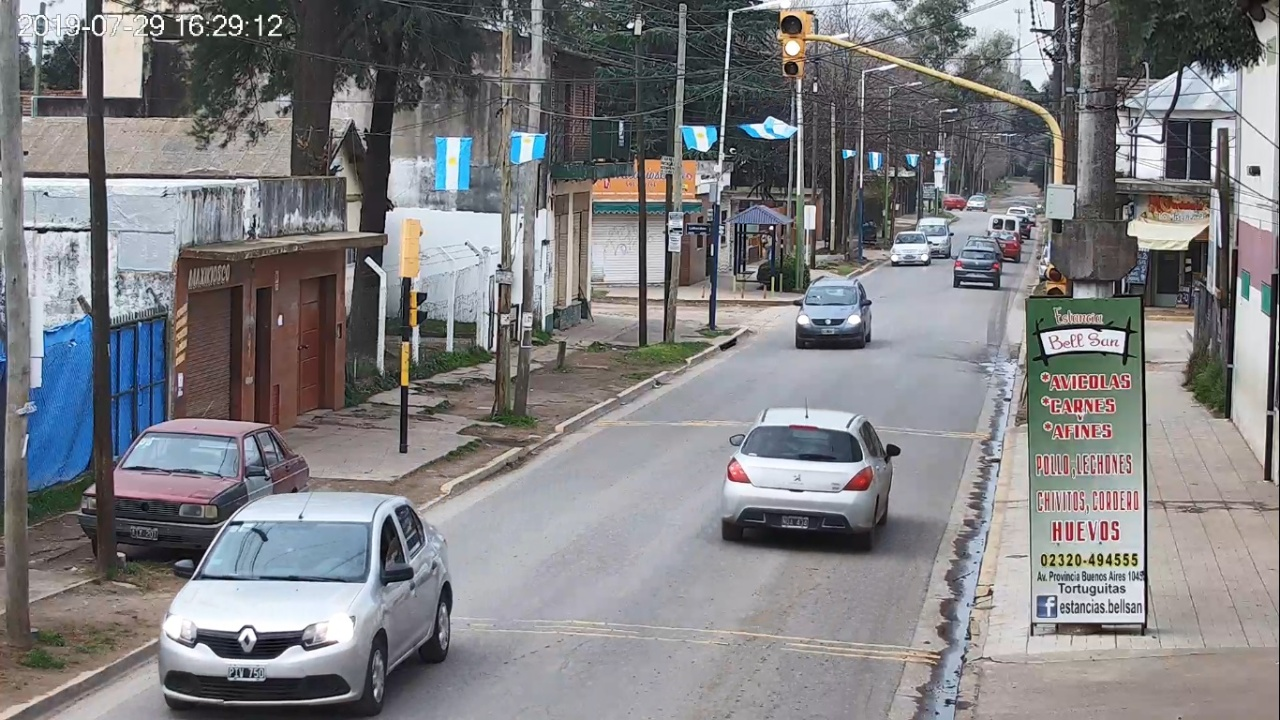car: (721, 407, 901, 550), (952, 246, 1004, 291)
front car: (158, 493, 453, 715)
traffic light: (780, 9, 806, 78)
